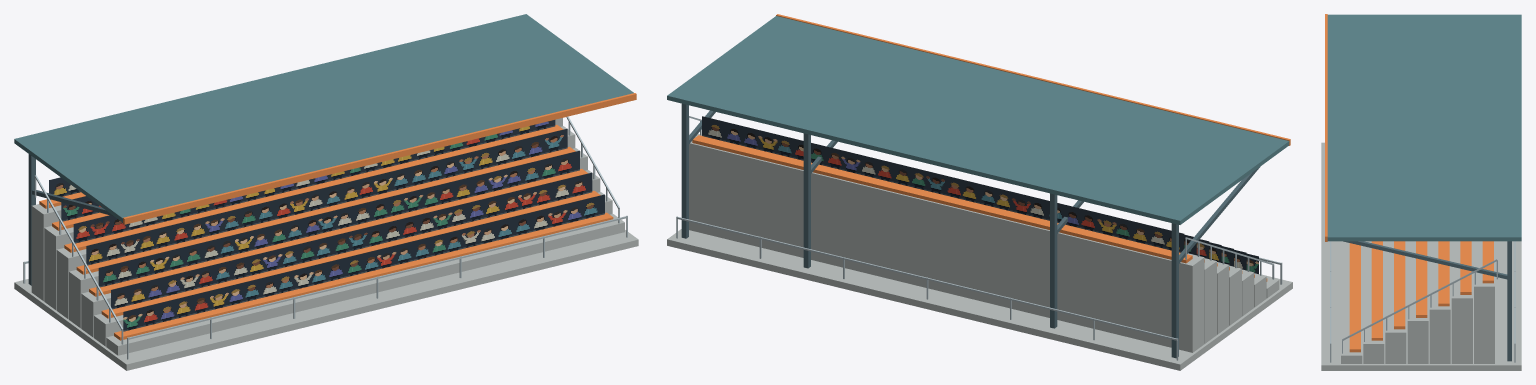
Rendered from grandstand.glb.
3 renders of one model, left to right at view 1: azimuth 30°, elevation 25°; view 2: azimuth 150°, elevation 25°; view 3: azimuth 270°, elevation 25°, orthographic. The views are drawn at different scales.
Parts seen in each view (by area): view 1: Canopy, Terraces, Seats, CrowdRow1, CrowdRow2, CrowdRow4, CrowdRow3, CrowdRow5, CanopyTrim, Railings, Structure, CrowdRow6; view 2: Terraces, Canopy, CrowdRow7, Structure, Seats, Railings, CanopyTrim; view 3: Canopy, Terraces, Seats, Structure, Railings, CanopyTrim.
Part boxes in pixels (x1,y1,x2,y2): Canopy: (14, 14, 633, 222); Terraces: (14, 118, 638, 370); Seats: (39, 125, 613, 340); CrowdRow1: (123, 194, 604, 331); CrowdRow2: (111, 172, 592, 309); CrowdRow4: (86, 128, 567, 265); CrowdRow3: (98, 150, 579, 287); CrowdRow5: (73, 120, 555, 243); CanopyTrim: (123, 93, 636, 224); Railings: (23, 116, 627, 359); Structure: (28, 154, 113, 285); CrowdRow6: (61, 196, 101, 221); Terraces: (667, 134, 1292, 370); Canopy: (667, 16, 1289, 224); CrowdRow7: (702, 116, 1184, 252); Structure: (681, 103, 1260, 358); Seats: (692, 135, 1267, 281); Railings: (676, 116, 1282, 360); CanopyTrim: (776, 14, 1290, 145); Canopy: (1327, 14, 1521, 241); Terraces: (1321, 142, 1521, 370); Seats: (1349, 241, 1493, 352); Structure: (1343, 241, 1511, 361); Railings: (1330, 241, 1515, 362); CanopyTrim: (1325, 14, 1327, 241).
Bounding box in the file's own units: 20 × 5.62 × 7.6.
Materials: 6 (1 with a texture image).
